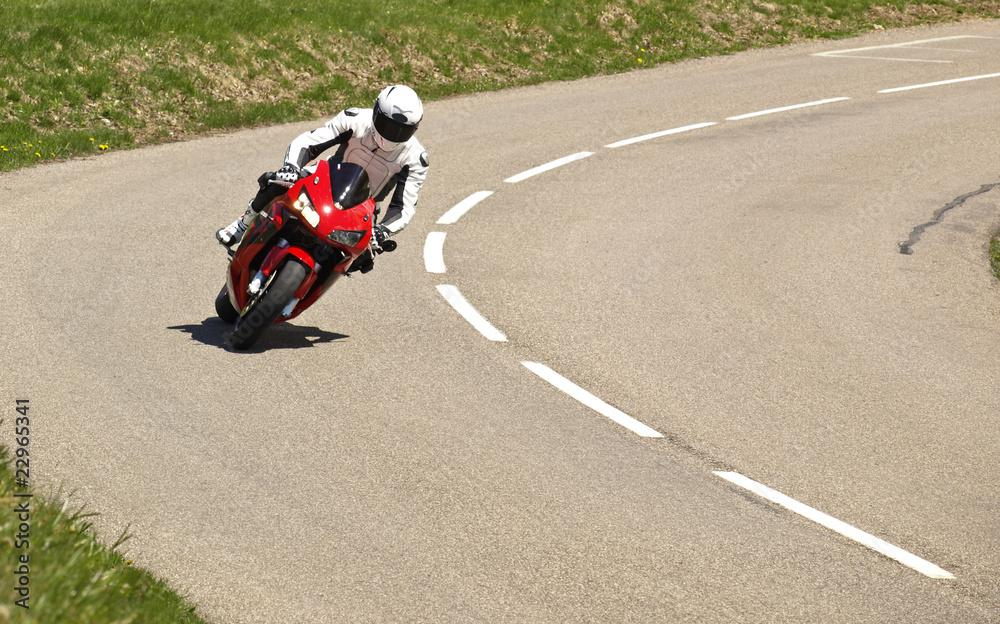helmet: (370, 84, 424, 154)
